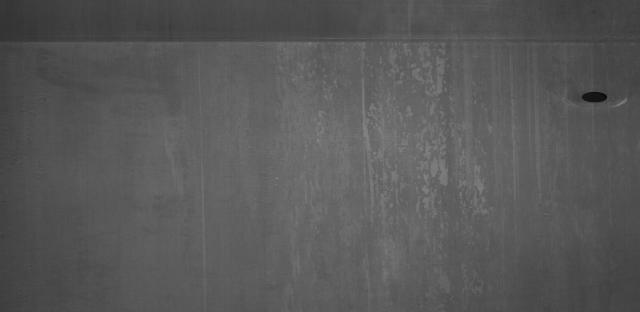punching_hole: (579, 88, 610, 106)
welding_line: (3, 28, 636, 53)
